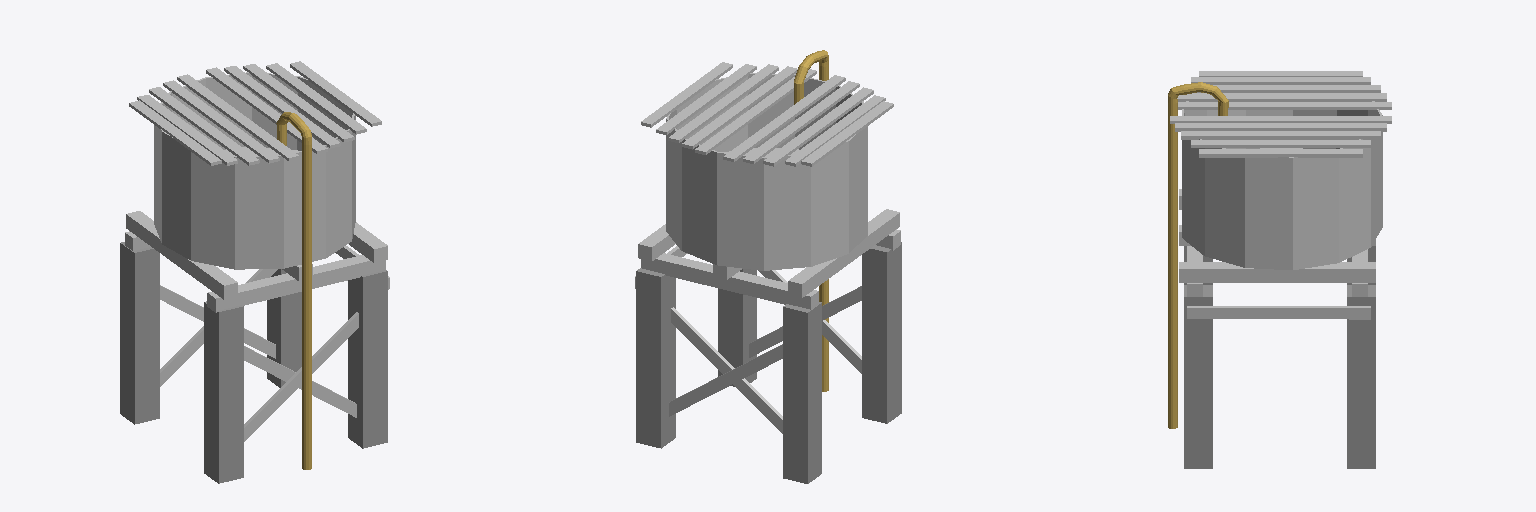
File: watertower.obj
3 renders of one model, left to right at view 1: azimuth 30°, elevation 25°; view 2: azimuth 150°, elevation 25°; view 3: azimuth 270°, elevation 25°, orthographic.
Parts seen in each view (by area): view 1: Cylinder_Cylinder.001, Cube.003_Cube.026, Cube.020, Cube.005, Cube.015_Cube.030, Cylinder.001_Cylinder.002; view 2: Cylinder_Cylinder.001, Cube.003_Cube.026, Cube.020, Cube.005, Cube.015_Cube.030, Cylinder.001_Cylinder.002; view 3: Cylinder_Cylinder.001, Cube.020, Cube.003_Cube.026, Cube.005, Cylinder.001_Cylinder.002, Cube.015_Cube.030.
Part boxes in pixels (x1,y1,x2,y2): Cylinder_Cylinder.001: (154,72,355,269); Cube.003_Cube.026: (120,242,387,483); Cube.020: (129,61,381,165); Cube.005: (125,211,387,312); Cube.015_Cube.030: (160,246,389,441); Cylinder.001_Cylinder.002: (276,112,311,469); Cylinder_Cylinder.001: (666,73,867,270); Cube.003_Cube.026: (636,242,901,483); Cube.020: (641,62,893,166); Cube.005: (638,209,900,309); Cube.015_Cube.030: (635,246,861,433); Cylinder.001_Cylinder.002: (794,50,828,391); Cylinder_Cylinder.001: (1182,101,1382,269); Cube.020: (1170,71,1391,157); Cube.003_Cube.026: (1184,246,1375,468); Cube.005: (1179,189,1375,296); Cylinder.001_Cylinder.002: (1168,82,1228,428); Cube.015_Cube.030: (1187,306,1370,319).
Size of the model in its own units: 3.39 by 6.36 by 3.76.